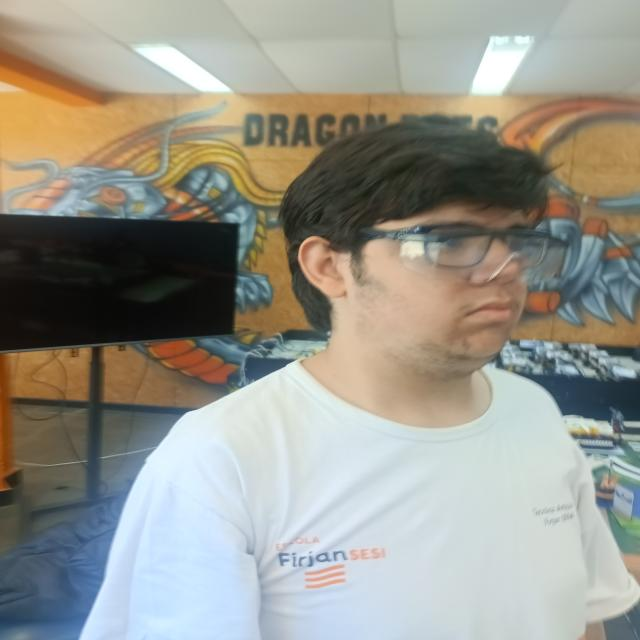oculos-epi: (359, 223, 567, 284)
